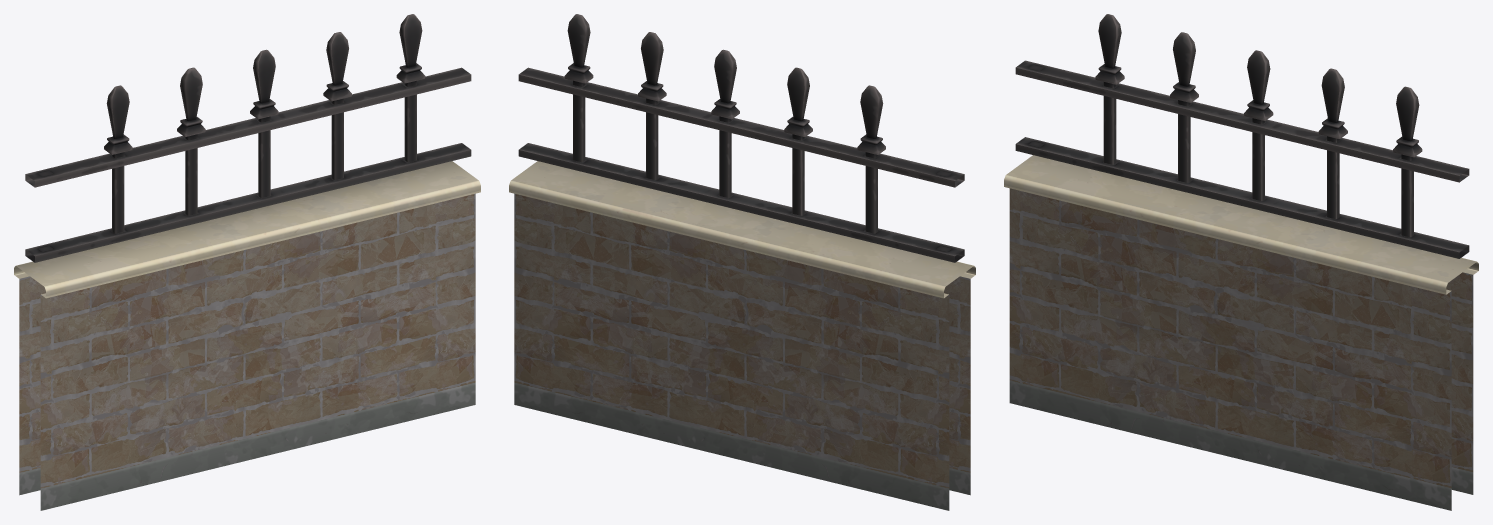
File: StreetFence02_A4.FBX
The picture shows the model from 3 angles, left to right: view 1: azimuth 30°, elevation 25°; view 2: azimuth 150°, elevation 25°; view 3: azimuth 330°, elevation 25°; orthographic projection.
Parts seen in each view (by area): view 1: StreetFence02_A4; view 2: StreetFence02_A4; view 3: StreetFence02_A4.
Part boxes in pixels (box(x1,y1,x2,y2)): StreetFence02_A4: box(14, 14, 480, 510); StreetFence02_A4: box(509, 14, 975, 510); StreetFence02_A4: box(1004, 14, 1478, 510).
Size of what is drawn, in the model's own units: 2.11 by 1.83 by 0.2685.
